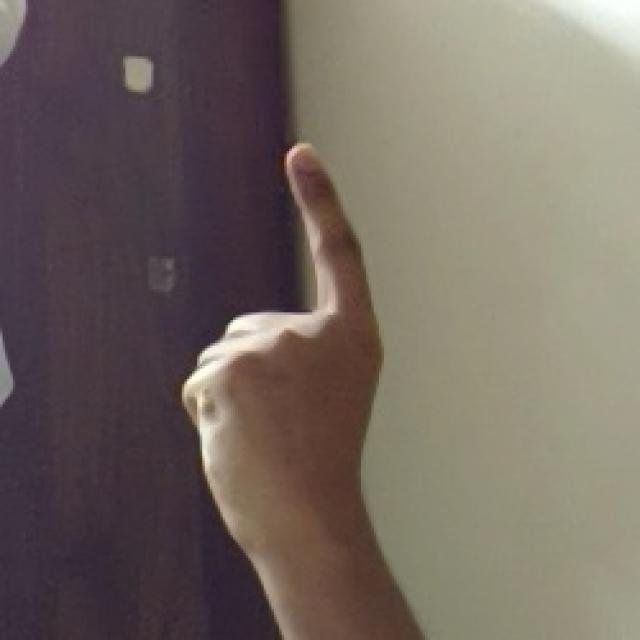Alphabet-I: (173, 136, 456, 602)
